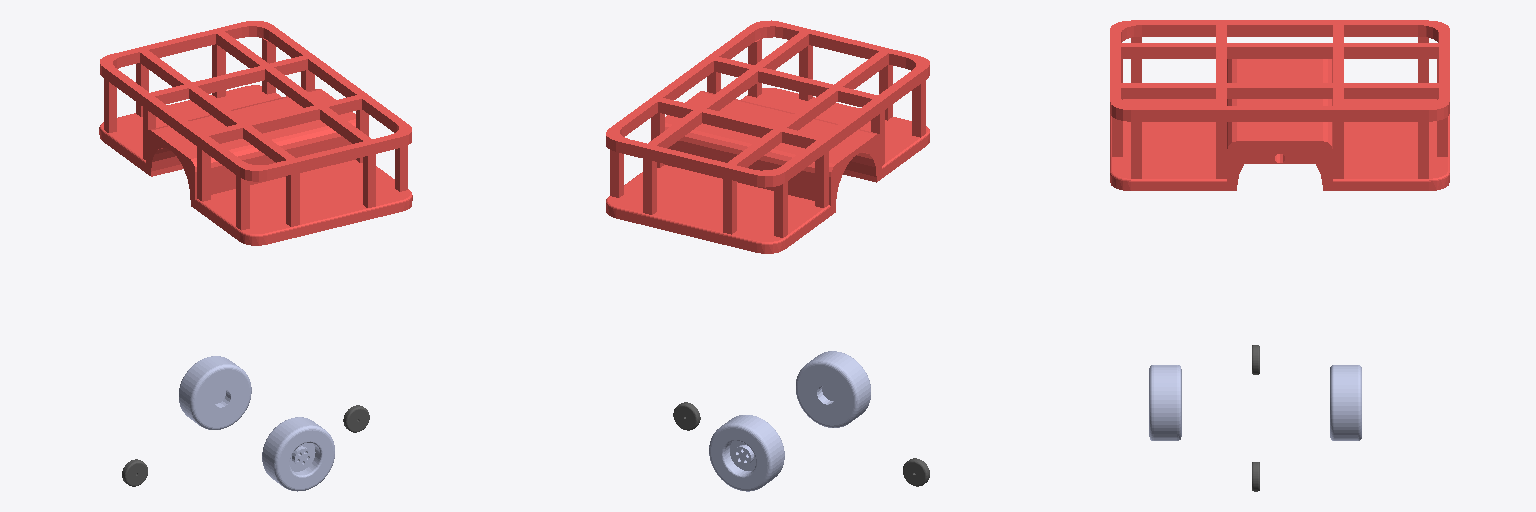
URDF robot description (car_model_t2):
<?xml version="1.0" encoding="utf-8"?>
<!-- This URDF was automatically created by SolidWorks to URDF Exporter! Originally created by [author] ([email redacted]) 
     Commit Version: 1.5.0-0-g9aa0fdb  Build Version: 1.5.7004.21443
     For more information, please see http://wiki.ros.org/sw_urdf_exporter -->
<robot
  name="car_model_t2">
  <link
    name="base_link">
    <inertial>
      <origin
        xyz="-6.9389E-18 2.6021E-18 0.014651"
        rpy="0 0 0" />
      <mass
        value="0.18591" />
      <inertia
        ixx="0.00018214"
        ixy="-4.4172E-20"
        ixz="-2.1205E-20"
        iyy="0.00035308"
        iyz="-3.2717E-22"
        izz="0.00047127" />
    </inertial>
    <visual>
      <origin
        xyz="0 0 0"
        rpy="0 0 0" />
      <geometry>
        <mesh
          filename="package://car_model_t2/meshes/base_link.STL" />
      </geometry>
      <material
        name="">
        <color
          rgba="1 0.40784 0.39216 1" />
      </material>
    </visual>
    <collision>
      <origin
        xyz="0 0 0"
        rpy="0 0 0" />
      <geometry>
        <mesh
          filename="package://car_model_t2/meshes/base_link.STL" />
      </geometry>
    </collision>
  </link>
  <link
    name="left_wheel">
    <inertial>
      <origin
        xyz="0 -0.00032962 0"
        rpy="0 0 0" />
      <mass
        value="0.013351" />
      <inertia
        ixx="1.4054E-06"
        ixy="3.7503E-23"
        ixz="3.2659E-24"
        iyy="2.3499E-06"
        iyz="-3.6117E-23"
        izz="1.4054E-06" />
    </inertial>
    <visual>
      <origin
        xyz="0 0 0"
        rpy="0 0 0" />
      <geometry>
        <mesh
          filename="package://car_model_t2/meshes/left_wheel.STL" />
      </geometry>
      <material
        name="">
        <color
          rgba="0.79608 0.82353 0.93725 1" />
      </material>
    </visual>
    <collision>
      <origin
        xyz="0 0 0"
        rpy="0 0 0" />
      <geometry>
        <mesh
          filename="package://car_model_t2/meshes/left_wheel.STL" />
      </geometry>
    </collision>
  </link>
  <joint
    name="base_to_left"
    type="continuous">
    <origin
      xyz="0 0.0425 0.003"
      rpy="0 0 0" />
    <parent
      link="base_link" />
    <child
      link="left_wheel" />
    <axis
      xyz="0 -1 0" />
    <safety_controller
      k_velocity="0" />
  </joint>
  <link
    name="right_wheel">
    <inertial>
      <origin
        xyz="0 0.00033063 -2.7756E-17"
        rpy="0 0 0" />
      <mass
        value="0.013453" />
      <inertia
        ixx="1.4184E-06"
        ixy="-3.6768E-23"
        ixz="-1.1022E-23"
        iyy="2.3664E-06"
        iyz="-3.8003E-23"
        izz="1.4184E-06" />
    </inertial>
    <visual>
      <origin
        xyz="0 0 0"
        rpy="0 0 0" />
      <geometry>
        <mesh
          filename="package://car_model_t2/meshes/right_wheel.STL" />
      </geometry>
      <material
        name="">
        <color
          rgba="0.79608 0.82353 0.93725 1" />
      </material>
    </visual>
    <collision>
      <origin
        xyz="0 0 0"
        rpy="0 0 0" />
      <geometry>
        <mesh
          filename="package://car_model_t2/meshes/right_wheel.STL" />
      </geometry>
    </collision>
  </link>
  <joint
    name="base_to_right"
    type="continuous">
    <origin
      xyz="0 -0.0425 0.003"
      rpy="0 0 0" />
    <parent
      link="base_link" />
    <child
      link="right_wheel" />
    <axis
      xyz="0 -1 0" />
    <safety_controller
      k_velocity="0" />
  </joint>
  <link
    name="front_wheel">
    <inertial>
      <origin
        xyz="0 8.6736E-19 0"
        rpy="0 0 0" />
      <mass
        value="0.00059041" />
      <inertia
        ixx="7.8748E-09"
        ixy="2.9696E-24"
        ixz="-2.1139E-26"
        iyy="1.4243E-08"
        iyz="-2.6839E-25"
        izz="7.8748E-09" />
    </inertial>
    <visual>
      <origin
        xyz="0 0 0"
        rpy="0 0 0" />
      <geometry>
        <mesh
          filename="package://car_model_t2/meshes/front_wheel.STL" />
      </geometry>
      <material
        name="">
        <color
          rgba="0.41176 0.41176 0.41176 1" />
      </material>
    </visual>
    <collision>
      <origin
        xyz="0 0 0"
        rpy="0 0 0" />
      <geometry>
        <mesh
          filename="package://car_model_t2/meshes/front_wheel.STL" />
      </geometry>
    </collision>
  </link>
  <joint
    name="base_to_front"
    type="continuous">
    <origin
      xyz="0.0585 0 -0.008"
      rpy="0 0 0" />
    <parent
      link="base_link" />
    <child
      link="front_wheel" />
    <axis
      xyz="0 -1 0" />
    <safety_controller
      k_velocity="0" />
  </joint>
  <link
    name="back_wheel">
    <inertial>
      <origin
        xyz="0 0 0"
        rpy="0 0 0" />
      <mass
        value="0.00059041" />
      <inertia
        ixx="7.8748E-09"
        ixy="-1.0069E-24"
        ixz="-3.543E-24"
        iyy="1.4243E-08"
        iyz="1.3457E-25"
        izz="7.8748E-09" />
    </inertial>
    <visual>
      <origin
        xyz="0 0 0"
        rpy="0 0 0" />
      <geometry>
        <mesh
          filename="package://car_model_t2/meshes/back_wheel.STL" />
      </geometry>
      <material
        name="">
        <color
          rgba="0.41176 0.41176 0.41176 1" />
      </material>
    </visual>
    <collision>
      <origin
        xyz="0 0 0"
        rpy="0 0 0" />
      <geometry>
        <mesh
          filename="package://car_model_t2/meshes/back_wheel.STL" />
      </geometry>
    </collision>
  </link>
  <joint
    name="base_to_back"
    type="continuous">
    <origin
      xyz="-0.0715 0 -0.008"
      rpy="0 0 0" />
    <parent
      link="base_link" />
    <child
      link="back_wheel" />
    <axis
      xyz="0 -1 0" />
    <safety_controller
      k_velocity="0" />
  </joint>
</robot>

--- Render facts (derived) ---
The picture shows the robot from 3 angles, left to right: view 1: azimuth 30°, elevation 25°; view 2: azimuth 150°, elevation 25°; view 3: azimuth 270°, elevation 25°; orthographic projection.
Robot: car_model_t2 — 5 links, 4 joints (4 continuous); root link base_link; default pose: all joints at 0.
Visible links, largest first — view 1: base_link, right_wheel, left_wheel, front_wheel, back_wheel; view 2: base_link, right_wheel, left_wheel, back_wheel, front_wheel; view 3: base_link, right_wheel, left_wheel.
Link boxes in pixels (x1=…): base_link: x1=99, y1=21, x2=412, y2=245; right_wheel: x1=262, y1=417, x2=334, y2=491; left_wheel: x1=179, y1=356, x2=251, y2=429; front_wheel: x1=343, y1=405, x2=369, y2=432; back_wheel: x1=122, y1=459, x2=147, y2=486; base_link: x1=606, y1=20, x2=929, y2=253; right_wheel: x1=796, y1=351, x2=870, y2=427; left_wheel: x1=709, y1=415, x2=784, y2=491; back_wheel: x1=903, y1=458, x2=929, y2=486; front_wheel: x1=673, y1=402, x2=700, y2=430; base_link: x1=1110, y1=20, x2=1449, y2=190; right_wheel: x1=1149, y1=365, x2=1181, y2=440; left_wheel: x1=1330, y1=365, x2=1361, y2=440.
Size in the robot's own frame: 0.144 by 0.16 by 0.196 metres.
5 mesh visuals loaded from 5 distinct referenced files (5 binary STL).